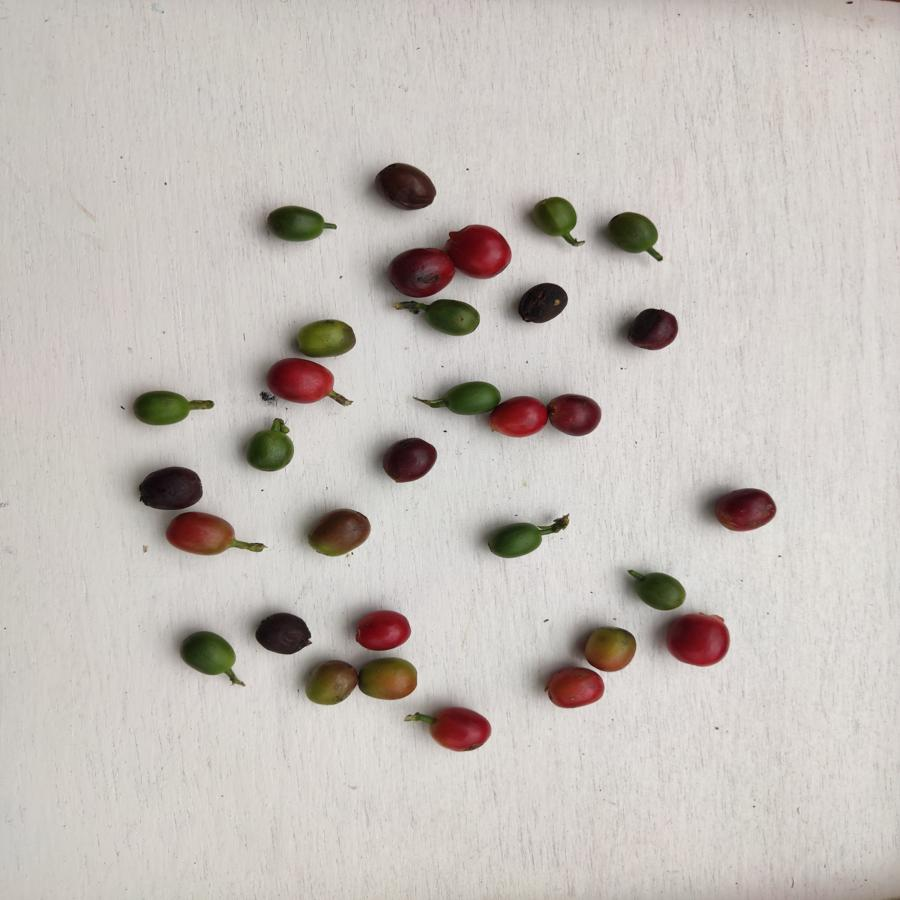Inmaduro: (291, 317, 363, 360), (263, 201, 329, 247), (440, 376, 502, 417), (181, 632, 236, 678), (607, 207, 658, 256), (635, 566, 687, 614), (248, 423, 297, 473), (490, 518, 544, 563), (426, 297, 484, 338), (532, 193, 581, 241), (132, 392, 193, 428)
Maduro: (659, 611, 733, 673), (440, 223, 514, 279), (166, 510, 238, 561), (264, 355, 338, 404), (428, 705, 498, 753), (544, 664, 608, 713), (491, 393, 549, 441), (352, 608, 415, 651)
Pinton: (305, 505, 374, 559), (358, 657, 421, 703), (302, 655, 358, 706), (584, 624, 639, 675)
Sobremaduro: (387, 246, 455, 298), (374, 159, 442, 210), (137, 463, 205, 511), (253, 609, 317, 657), (379, 435, 440, 485), (625, 303, 680, 358), (713, 486, 778, 532), (512, 280, 573, 328), (547, 392, 605, 438)
